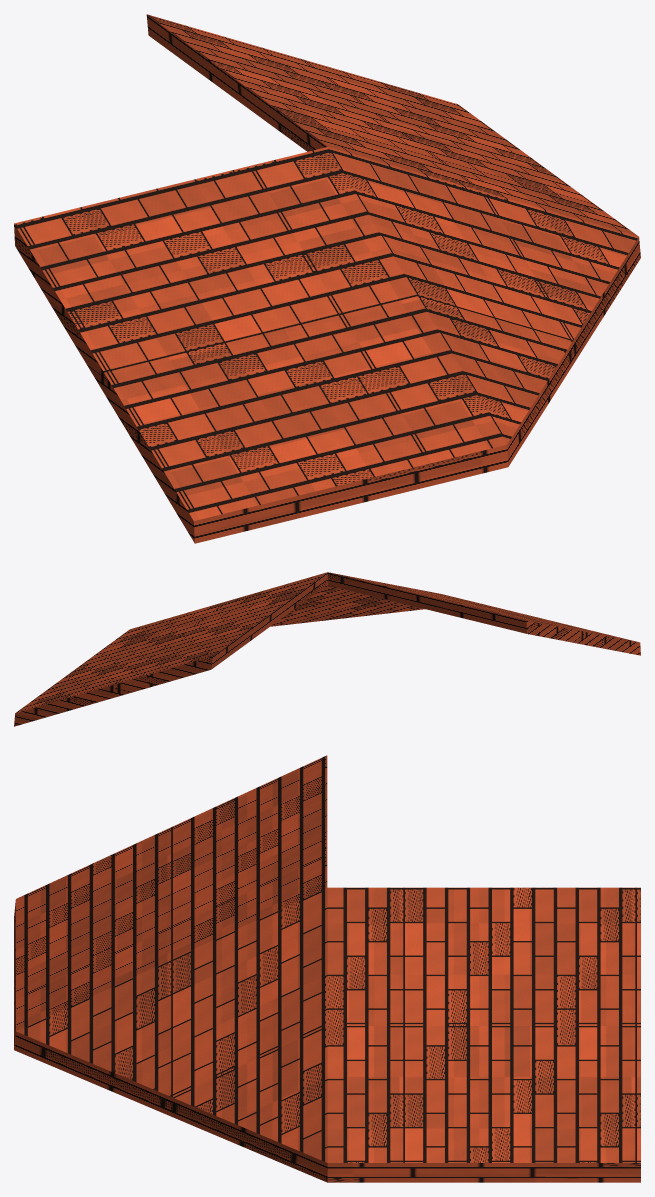
File: theodosian red roof corner inverse.glb
3 renders of one model, top to bottom at view 1: azimuth 30°, elevation 25°; view 2: azimuth 150°, elevation 25°; view 3: azimuth 270°, elevation 25°, orthographic. The views are drawn at different scales.
Visible parts, largest first — view 1: Theodosian_red_corner_inverse; view 2: Theodosian_red_corner_inverse; view 3: Theodosian_red_corner_inverse.
Part boxes in pixels (bbox=[...]): Theodosian_red_corner_inverse: bbox=[14, 14, 640, 543]; Theodosian_red_corner_inverse: bbox=[14, 572, 640, 726]; Theodosian_red_corner_inverse: bbox=[14, 755, 640, 1182].
Bounding box in the file's own units: 2 × 0.5726 × 2.
Materials: 1 (1 with a texture image).
